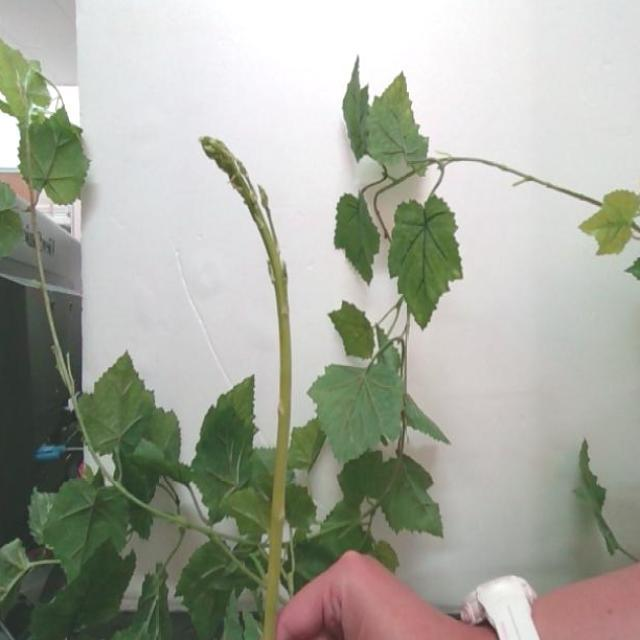aspargus: (200, 137, 294, 640)
